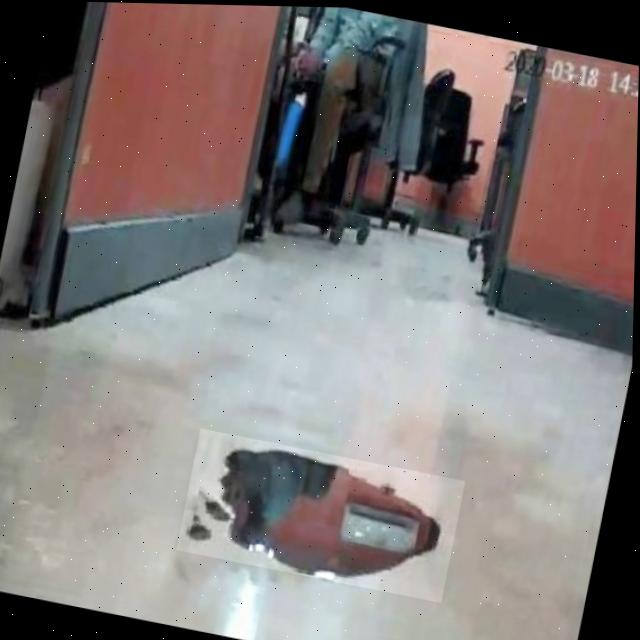spillage: (188, 443, 455, 583)
